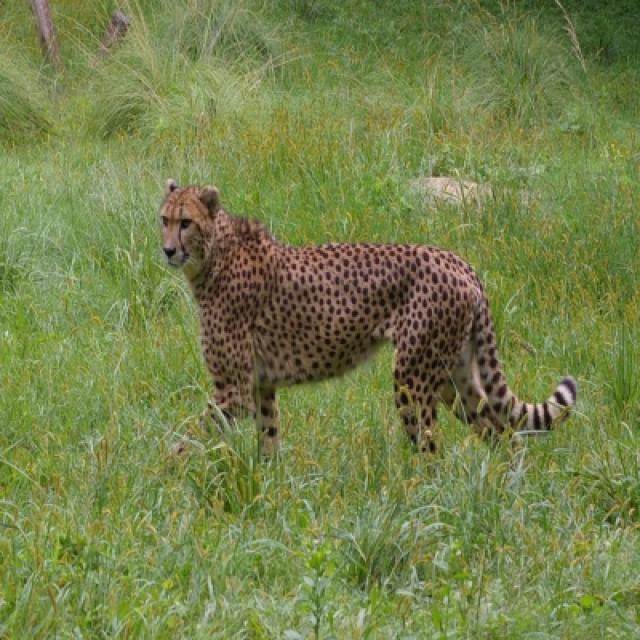Cheetah: (160, 179, 576, 458)
